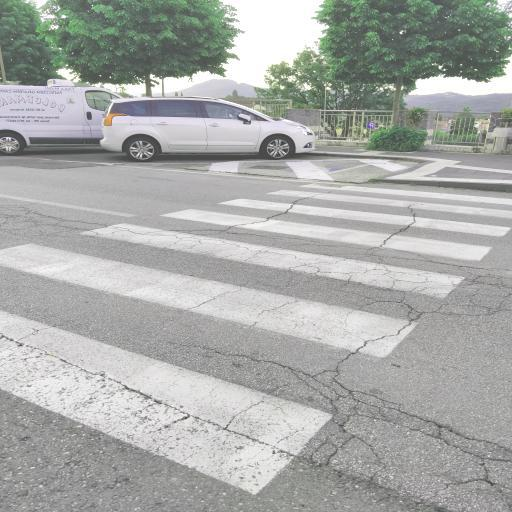crosswalk: (77, 206, 512, 302)
